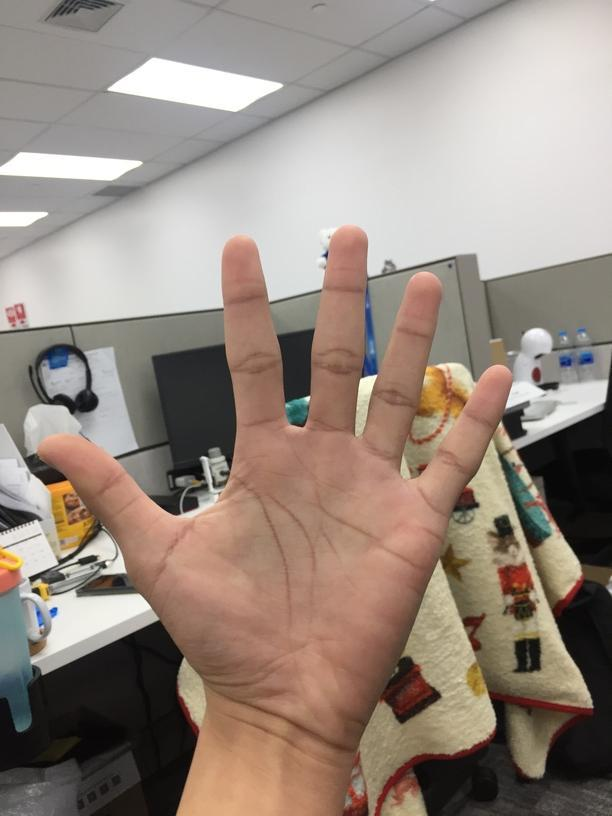hand: (36, 222, 512, 750)
